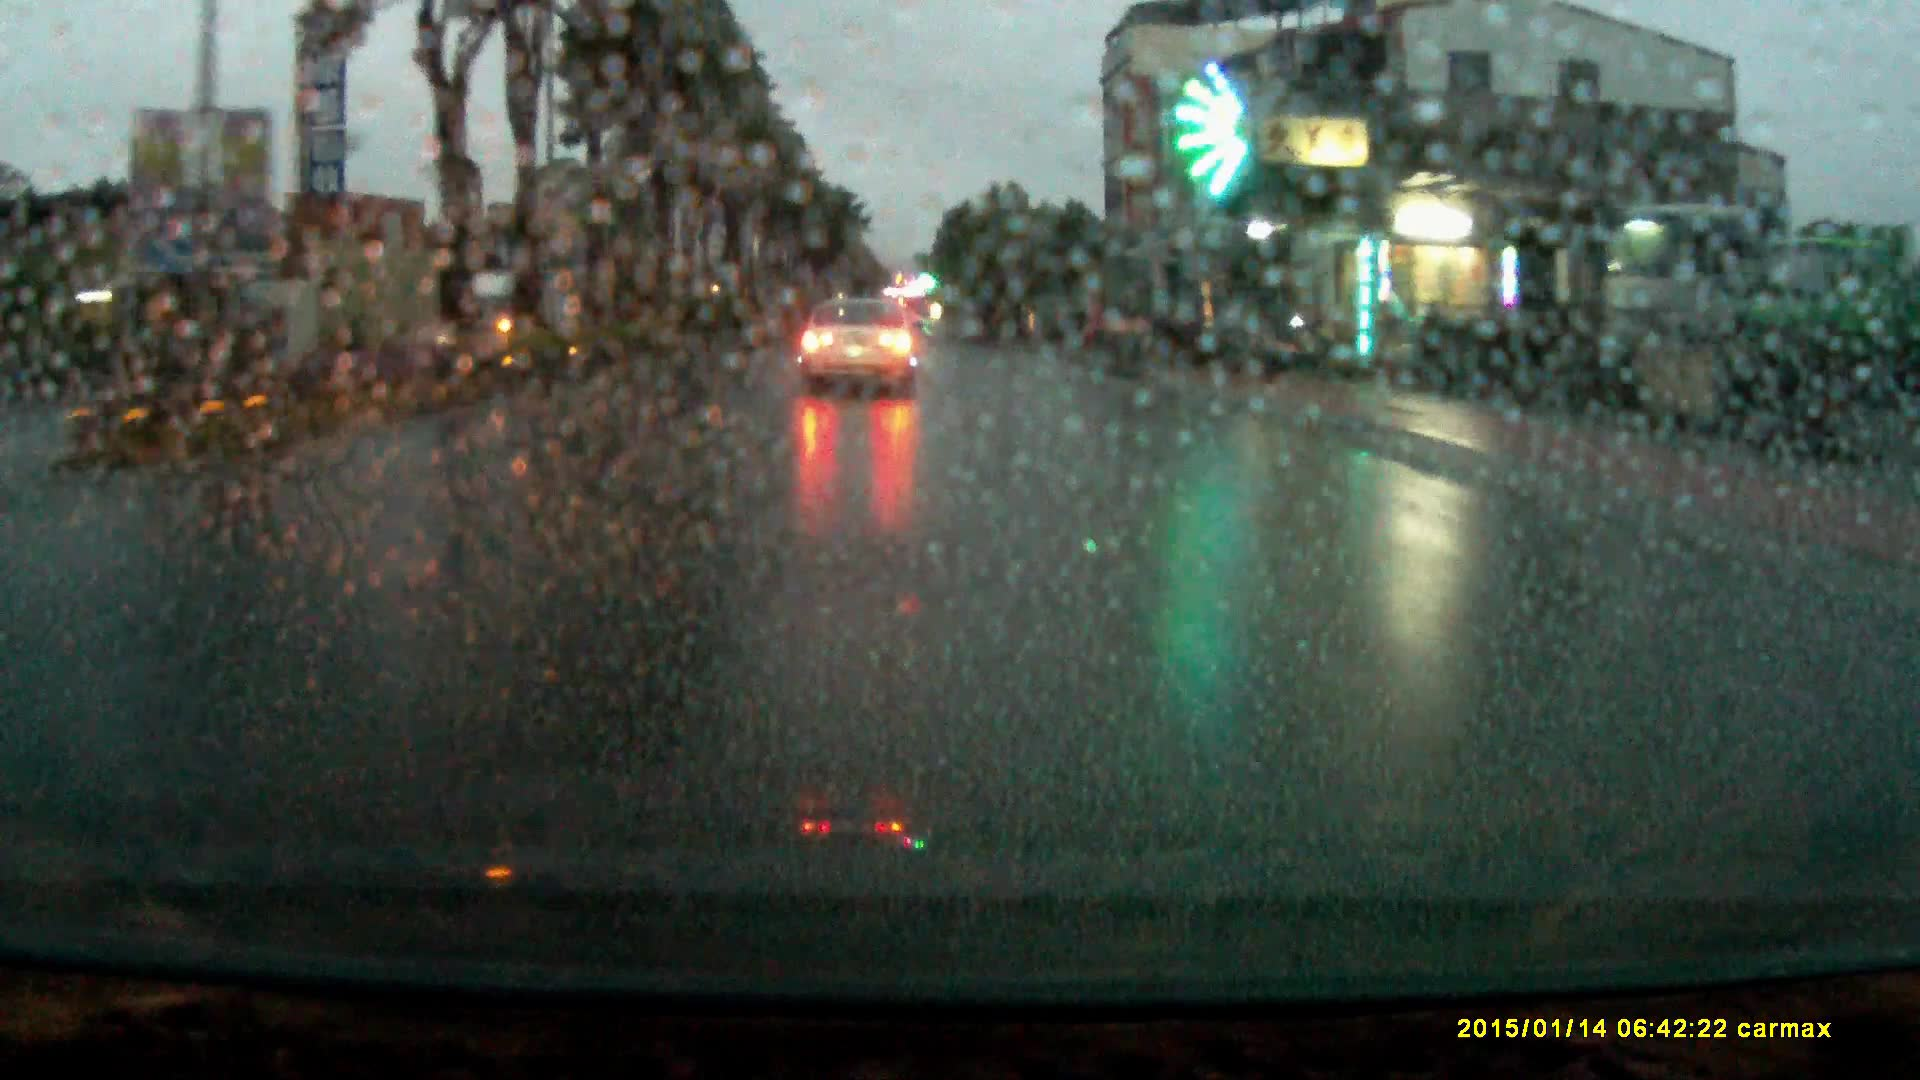vehicle: (1592, 206, 1766, 385), (798, 295, 916, 396), (454, 273, 562, 343), (1017, 291, 1077, 338)
